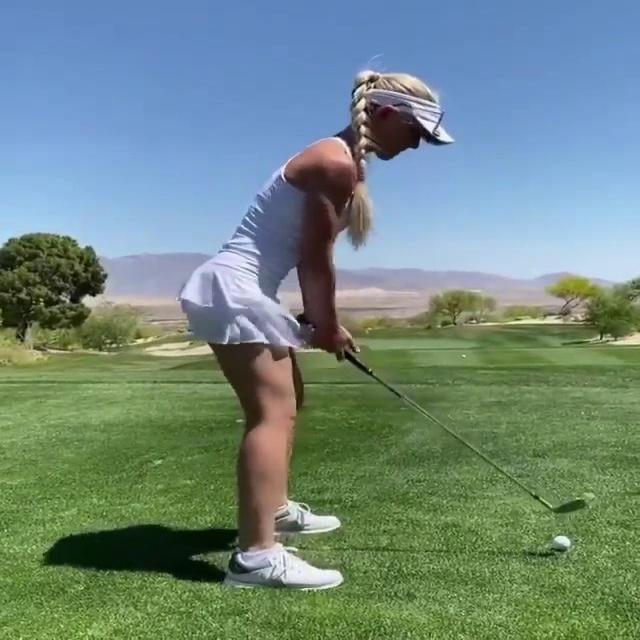ClubHead: (558, 491, 596, 513)
GolfBall: (553, 536, 571, 551)
